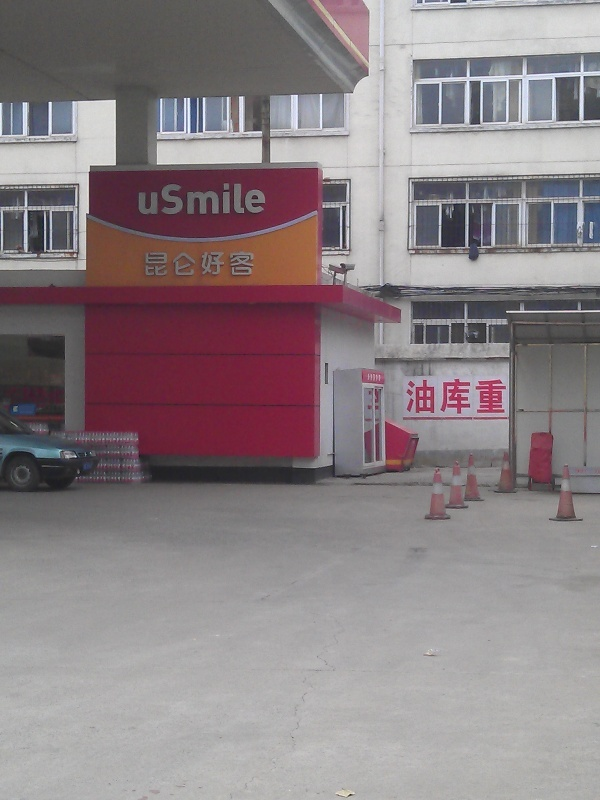text: (417, 379, 432, 414), (433, 379, 448, 414), (449, 379, 464, 414), (465, 379, 480, 414), (481, 379, 496, 414), (145, 184, 160, 215), (161, 184, 176, 215), (177, 184, 192, 215), (193, 184, 208, 215), (209, 184, 224, 215), (225, 184, 240, 215), (241, 184, 256, 215), (145, 250, 160, 278), (161, 250, 176, 278), (177, 250, 192, 278), (193, 250, 208, 278), (209, 250, 224, 278), (225, 250, 240, 278), (257, 184, 270, 215), (241, 250, 255, 278), (407, 379, 416, 414), (497, 379, 506, 414), (136, 184, 144, 215)
